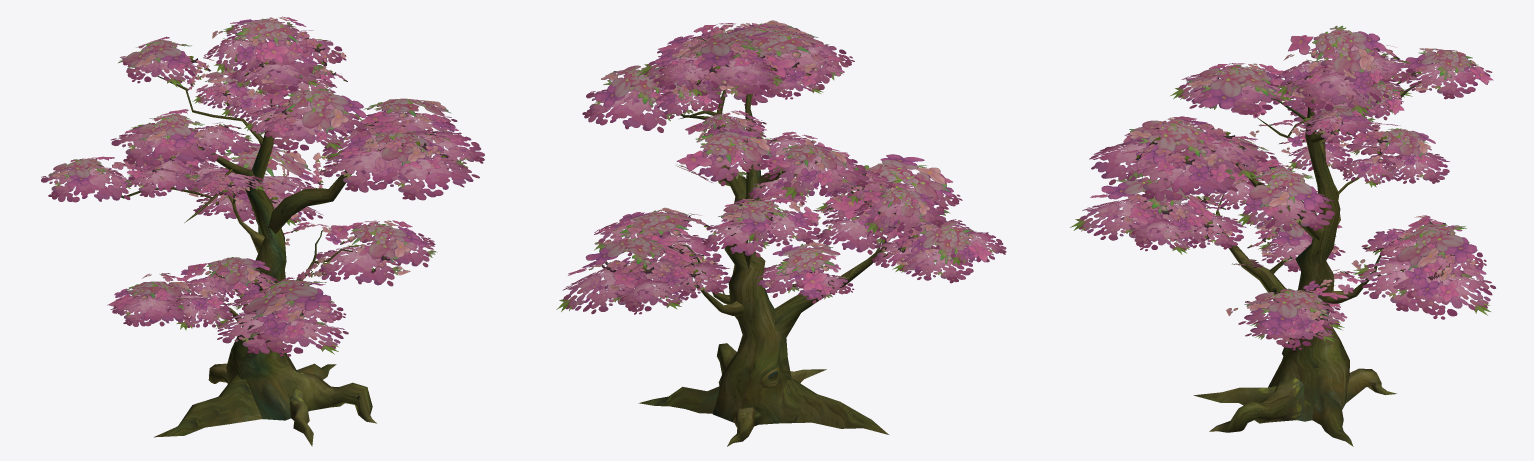
Rendered from taohuashu_jiaowai_D01.FBX.
3 views of the same model, side by side, from view 1: azimuth 30°, elevation 25°; view 2: azimuth 150°, elevation 25°; view 3: azimuth 270°, elevation 25° (orthographic). The views are drawn at different scales.
Visible parts, largest first — view 1: taohuashu_jiaowai_D01; view 2: taohuashu_jiaowai_D01; view 3: taohuashu_jiaowai_D01.
Boxes of the visible parts, <box> form: taohuashu_jiaowai_D01: <box>41,16,484,446</box>; taohuashu_jiaowai_D01: <box>556,20,1006,446</box>; taohuashu_jiaowai_D01: <box>1070,25,1495,446</box>.
Bounding box in the file's own units: 490 × 421 × 489.
